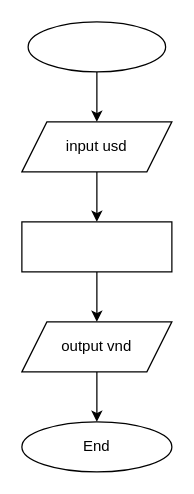
This 194x494 diagram has some shape labels left out. Here are the shapes that lost their labels. From the top down, the centre of each, then its label:
(96,46): Start
(96,246): vnd = usd * 23000
